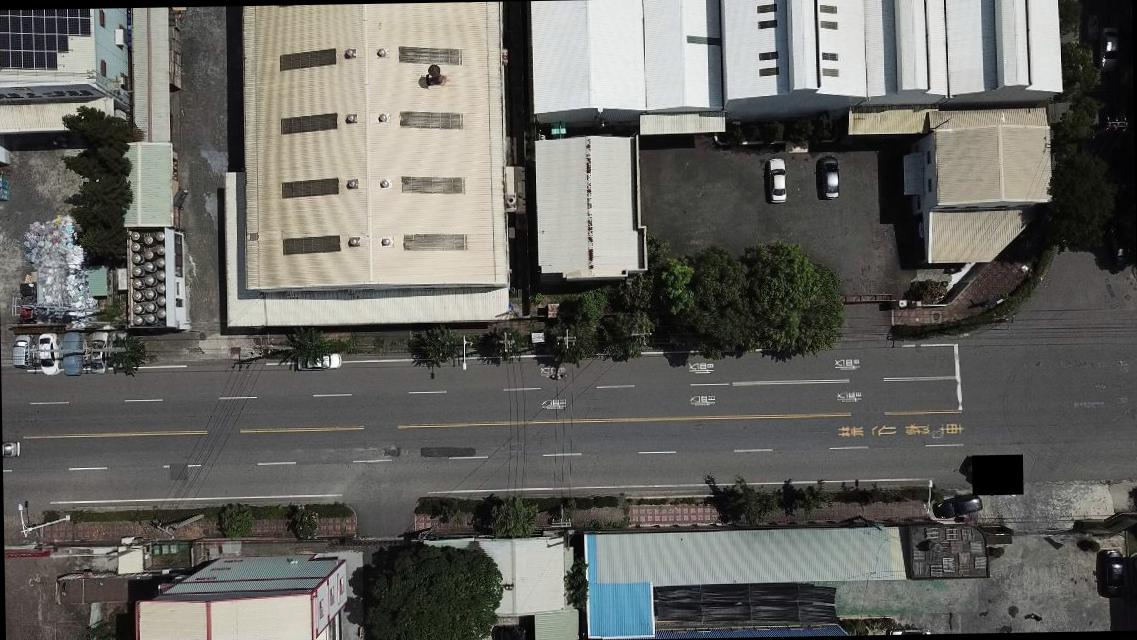vehicle: (1099, 548, 1125, 596), (816, 153, 841, 200), (37, 332, 60, 376), (1099, 26, 1121, 72), (765, 154, 786, 202), (936, 494, 982, 514), (89, 330, 109, 374), (296, 352, 342, 369), (11, 332, 34, 366), (109, 330, 128, 370)
